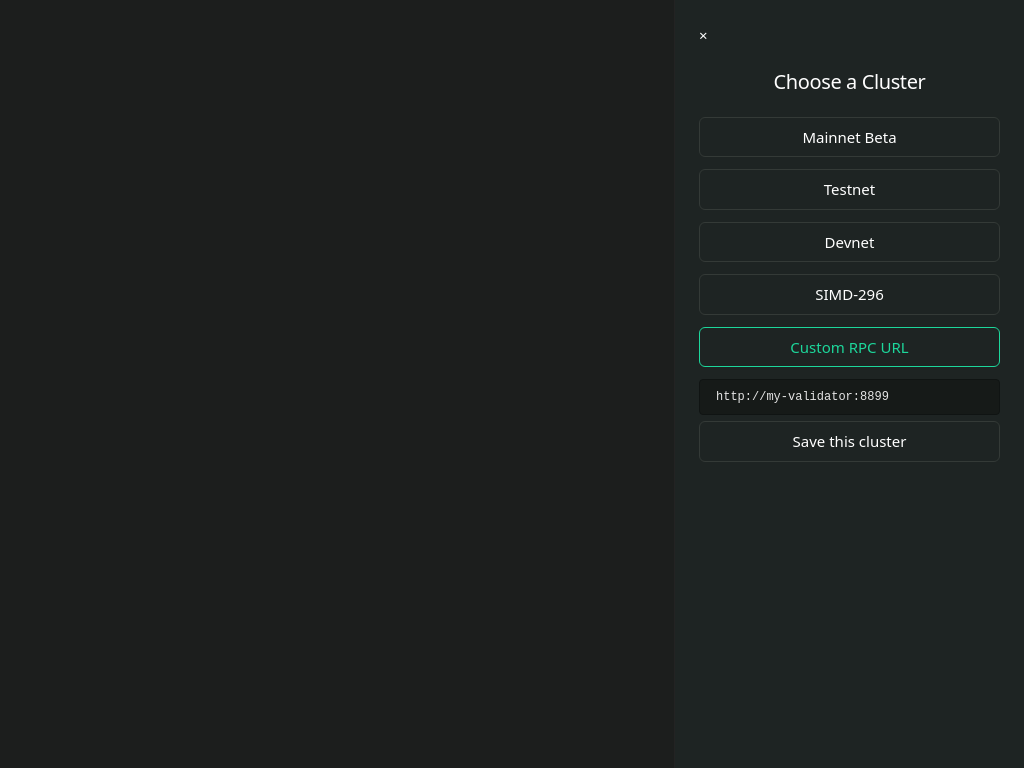
Test: ClusterModal › should require a name once the suggestion is cleared
Click the button with test id "save-custom-cluster-btn" at point(850, 441), box [699,421,1000,462]
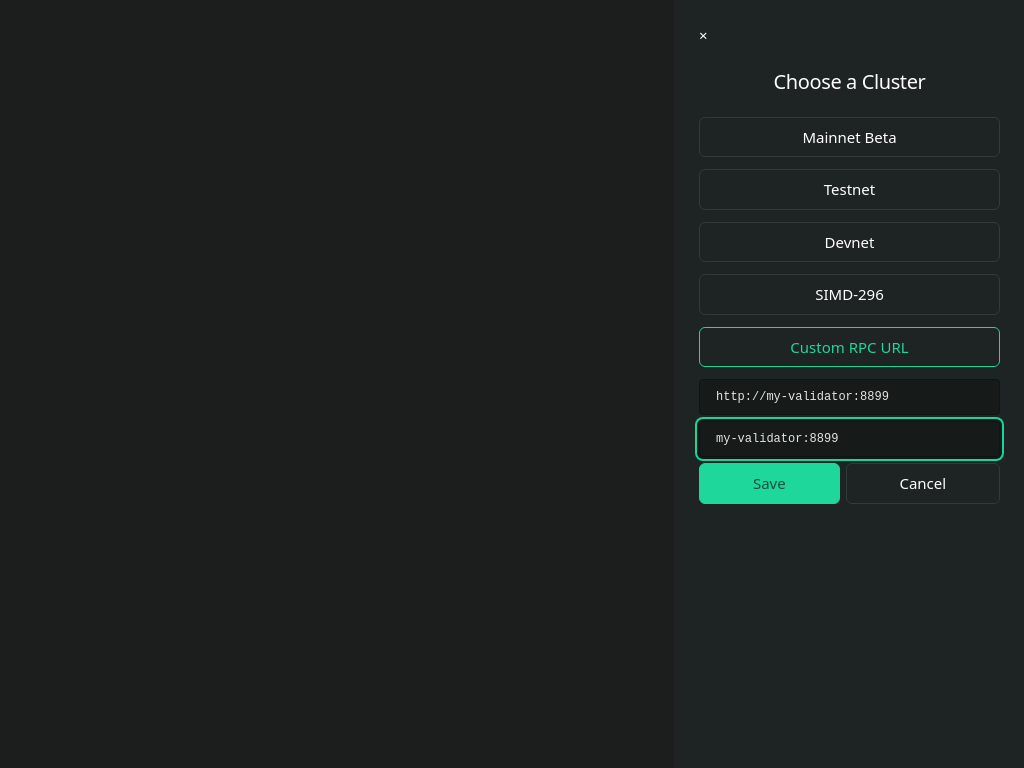
Clear the field with test id "cluster-name-input" at point(850, 439), box [699,421,1000,457]
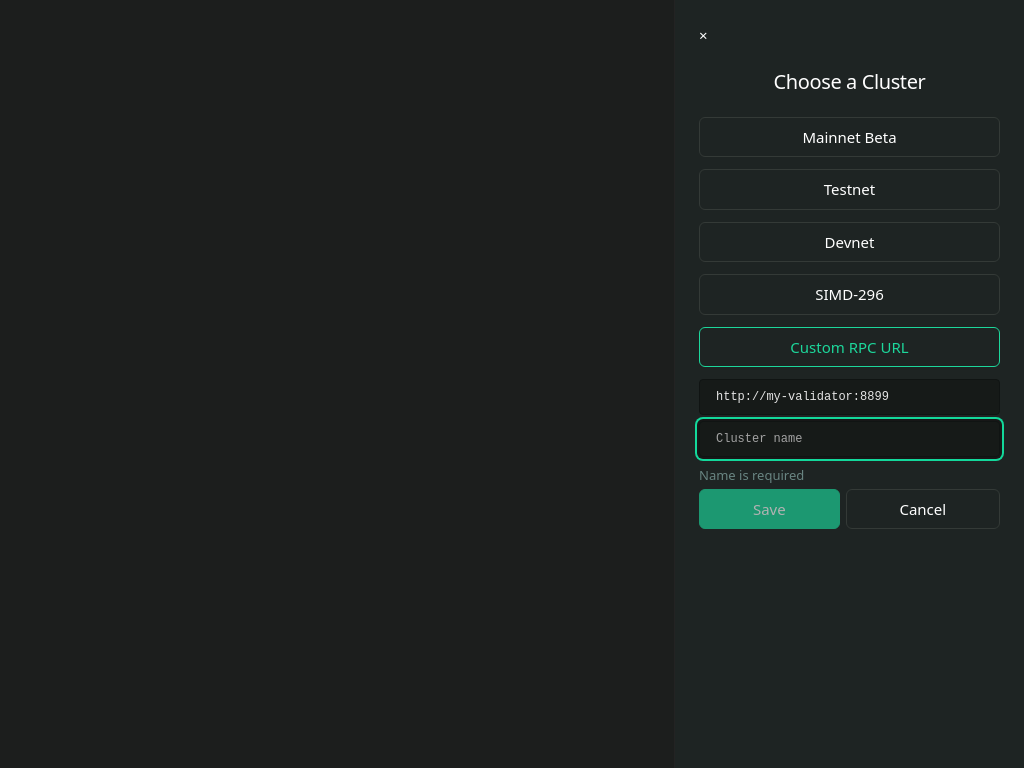
Now the text "Name is required" is shown, box [699,466,804,484]
